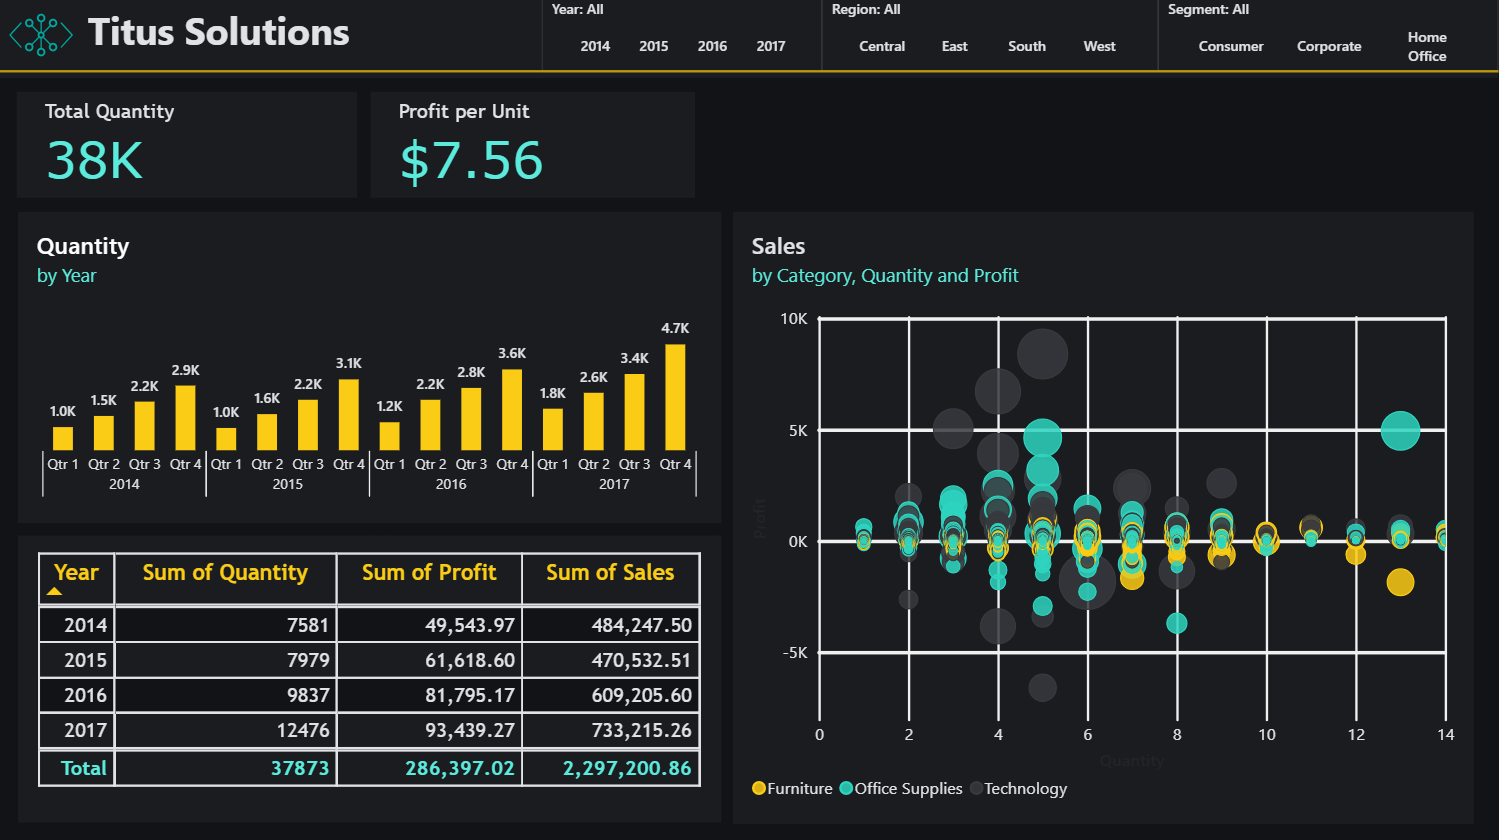

Layout of this report page (visuals, bound fields, positions):
{"tool":"powerbi","page":{"name":"Page 4","canvas":[1280,720],"ordinal":3},"visuals":[{"type":"textbox","box":[0,1.2,1280,61.6],"z":0,"group":"g1"},{"type":"clusteredColumnChart","title":"Quantity","fields":{"Category":["public superstore.Order Date.Variation.Date Hierarchy.Year","public superstore.Order Date.Variation.Date Hierarchy.Quarter"],"Y":["Sum(public superstore.Quantity)"]},"box":[16.6,182,599.7,265.5],"z":0},{"type":"scatterChart","title":"Sales","fields":{"X":["public superstore.Quantity"],"Y":["public superstore.Profit"],"Series":["public superstore.Category"],"Size":["Sum(public superstore.Sales)"]},"box":[627,182,631.7,522],"z":1000},{"type":"slicer","fields":{"Values":["public superstore.Region"]},"box":[702.8,0,286.8,62.8],"z":2000,"group":"g1"},{"type":"tableEx","fields":{"Values":["public superstore.Order Date.Variation.Date Hierarchy.Year","Sum(public superstore.Quantity)","Sum(public superstore.Profit)","Sum(public superstore.Sales)"]},"box":[16.6,459,599.7,245],"z":2000},{"type":"cardVisual","fields":{"Data":["Sum(public measures.total_quantity)"]},"box":[16.2,80,290,90],"z":3000},{"type":"group","id":"g1","title":"Group 1","box":[0,0,1280,68],"z":4000},{"type":"slicer","fields":{"Values":["public superstore.Segment"]},"box":[989.6,0,290.4,62.8],"z":4000,"group":"g1"},{"type":"cardVisual","fields":{"Data":["public measures.Profit per Unit"]},"box":[318,80,276.7,90],"z":5000},{"type":"slicer","fields":{"Values":["public superstore.Order Date.Variation.Date Hierarchy.Year"]},"box":[463.4,0,239.4,62.8],"z":6000,"group":"g1"},{"type":"shape","box":[0,56,1280,12],"z":12000,"group":"g1"},{"type":"image","box":[0,0,73.5,62.8],"z":14000,"group":"g1"}]}

Visuals, with their boxes in screenshot pixels (x1, y1, x2, y2), scaled from the page's 1280x720 canvas onto the 1499x840 screenshot:
textbox: (left=0, top=1, right=1498, bottom=73)
"Quantity" clusteredColumnChart: (left=19, top=212, right=722, bottom=522)
"Sales" scatterChart: (left=734, top=212, right=1474, bottom=821)
slicer - public superstore.Region: (left=823, top=0, right=1159, bottom=73)
tableEx - public superstore.Order Date.Variation.Date Hierarchy.Year x Sum(public superstore.Quantity): (left=19, top=536, right=722, bottom=821)
cardVisual - Sum(public measures.total_quantity): (left=19, top=93, right=359, bottom=198)
"Group 1" group: (left=0, top=0, right=1498, bottom=79)
slicer - public superstore.Segment: (left=1159, top=0, right=1498, bottom=73)
cardVisual - public measures.Profit per Unit: (left=372, top=93, right=696, bottom=198)
slicer - public superstore.Order Date.Variation.Date Hierarchy.Year: (left=543, top=0, right=823, bottom=73)
shape: (left=0, top=65, right=1498, bottom=79)
image: (left=0, top=0, right=86, bottom=73)
